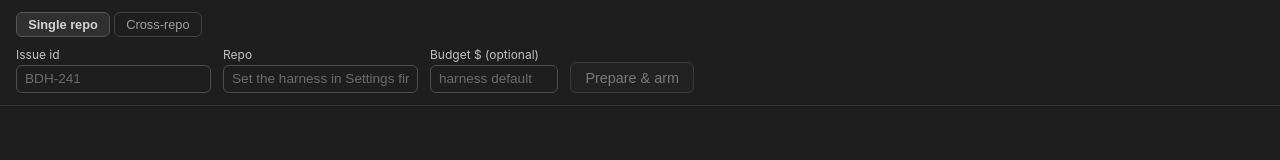
preparing and arming a run from the app › an IPC throw is shown, not swallowed
Type "BDH-1" into the field with placeholder "BDH-241" at (114, 79), box [16, 65, 211, 93]
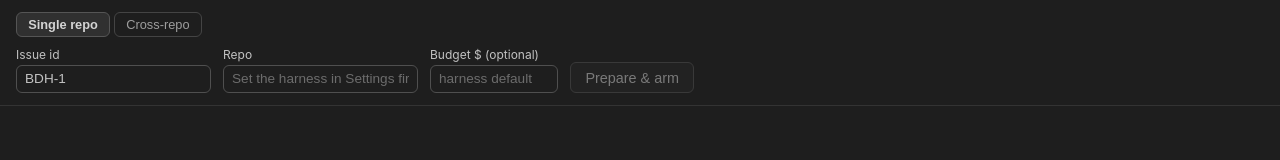
Type "Bodhilander" into the field with placeholder "Set the harness in Settings first" at (320, 79), box [223, 65, 418, 93]
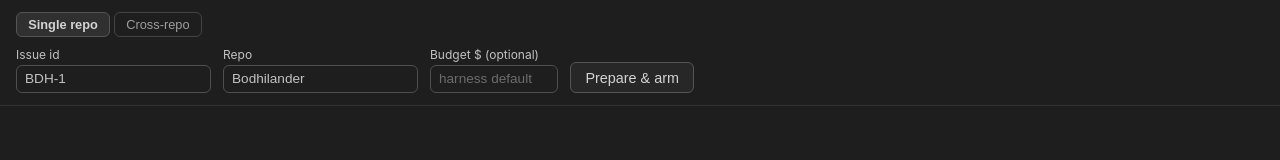
Click the button "Prepare & arm" at (632, 78), box [570, 62, 694, 93]
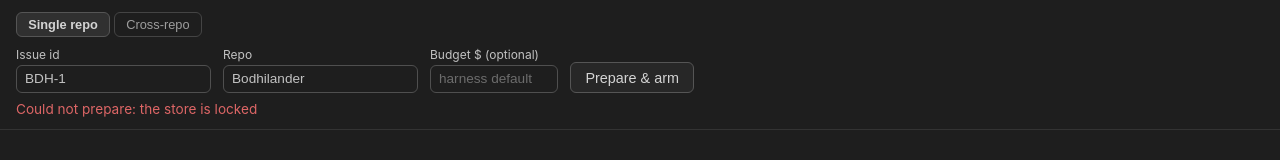
Expected: the text "Could not prepare: the store is locked" is shown, [16, 101, 257, 117]
